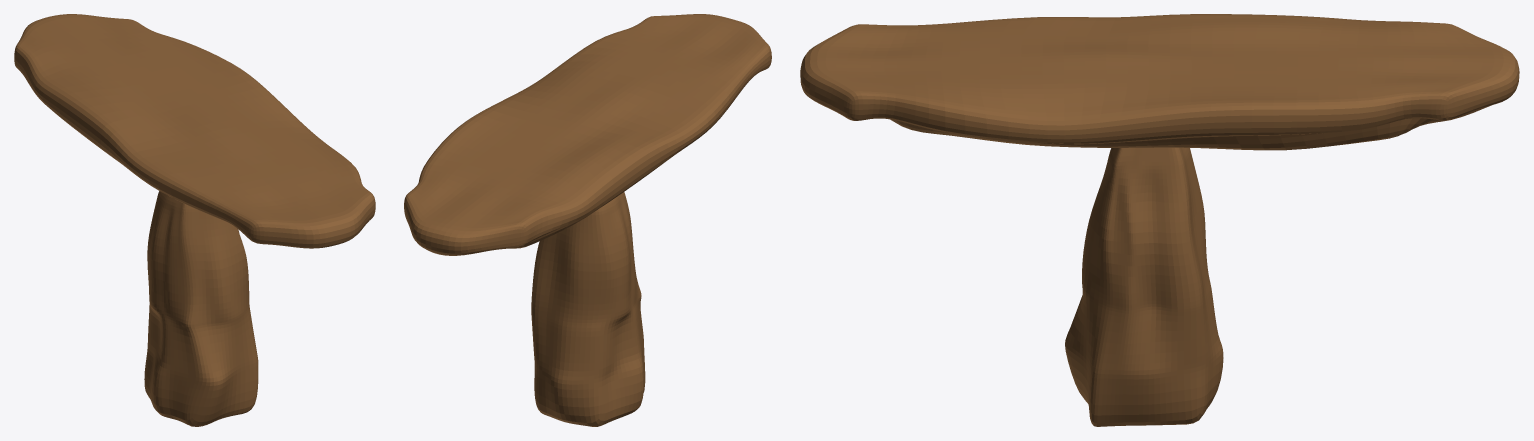
Rendered from stagePlatform.fbx.
3 renders of one model, left to right at view 1: azimuth 30°, elevation 25°; view 2: azimuth 150°, elevation 25°; view 3: azimuth 270°, elevation 25°, orthographic. The views are drawn at different scales.
Visible parts, largest first — view 1: Cube; view 2: Cube; view 3: Cube.
Boxes of the visible parts, x1,y1,x2,y2 form: Cube: (14,14,375,426); Cube: (404,14,771,426); Cube: (800,14,1519,426).
Size of the model in its own units: 497 by 790 by 1444.
